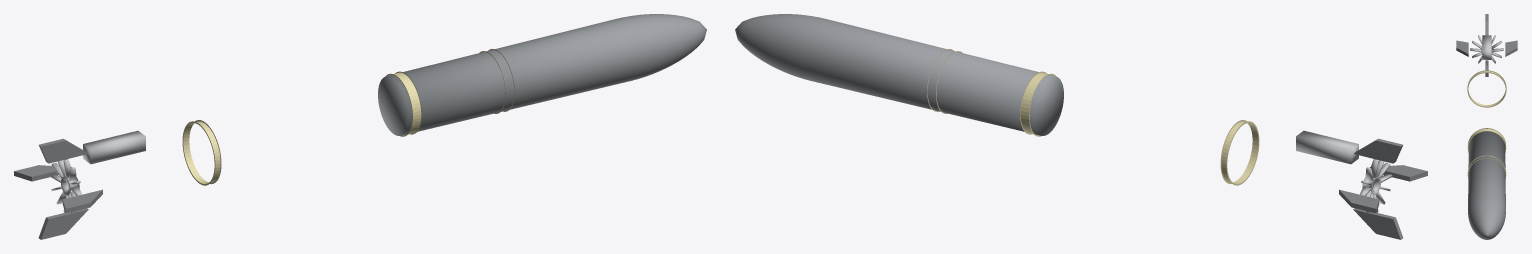
Rendered from US_TORP_Mk45_LOD0.fbx.
3 renders of one model, left to right at view 1: azimuth 30°, elevation 25°; view 2: azimuth 150°, elevation 25°; view 3: azimuth 270°, elevation 25°, orthographic. The views are drawn at different scales.
Parts seen in each view (by area): view 1: WPN_US_TORP_Mk45_LOD0_Body, WPN_US_TORP_Mk45_LOD0_Fins, WPN_US_TORP_Mk45_LOD0_Marking, WPN_US_TORP_Mk45_LOD0_Detail, WPN_US_TORP_Mk45_LOD0_Propulsor; view 2: WPN_US_TORP_Mk45_LOD0_Body, WPN_US_TORP_Mk45_LOD0_Fins, WPN_US_TORP_Mk45_LOD0_Marking, WPN_US_TORP_Mk45_LOD0_Detail, WPN_US_TORP_Mk45_LOD0_Propulsor; view 3: WPN_US_TORP_Mk45_LOD0_Body, WPN_US_TORP_Mk45_LOD0_Marking, WPN_US_TORP_Mk45_LOD0_Fins, WPN_US_TORP_Mk45_LOD0_Propulsor, WPN_US_TORP_Mk45_LOD0_Detail.
Boxes of the visible parts, box(x1,y1,x2,y2) form: WPN_US_TORP_Mk45_LOD0_Body: box(378, 14, 706, 135); WPN_US_TORP_Mk45_LOD0_Fins: box(14, 138, 102, 239); WPN_US_TORP_Mk45_LOD0_Marking: box(182, 49, 514, 185); WPN_US_TORP_Mk45_LOD0_Detail: box(83, 130, 145, 164); WPN_US_TORP_Mk45_LOD0_Propulsor: box(49, 159, 81, 214); WPN_US_TORP_Mk45_LOD0_Body: box(735, 14, 1063, 135); WPN_US_TORP_Mk45_LOD0_Fins: box(1339, 138, 1427, 239); WPN_US_TORP_Mk45_LOD0_Marking: box(927, 49, 1259, 185); WPN_US_TORP_Mk45_LOD0_Detail: box(1296, 130, 1358, 164); WPN_US_TORP_Mk45_LOD0_Propulsor: box(1360, 159, 1392, 214); WPN_US_TORP_Mk45_LOD0_Body: box(1468, 128, 1505, 239); WPN_US_TORP_Mk45_LOD0_Marking: box(1467, 70, 1506, 178); WPN_US_TORP_Mk45_LOD0_Fins: box(1456, 14, 1517, 76); WPN_US_TORP_Mk45_LOD0_Propulsor: box(1470, 35, 1503, 65); WPN_US_TORP_Mk45_LOD0_Detail: box(1482, 35, 1491, 59).
Bounding box in the file's own units: 5.82 × 0.7792 × 0.7792.
